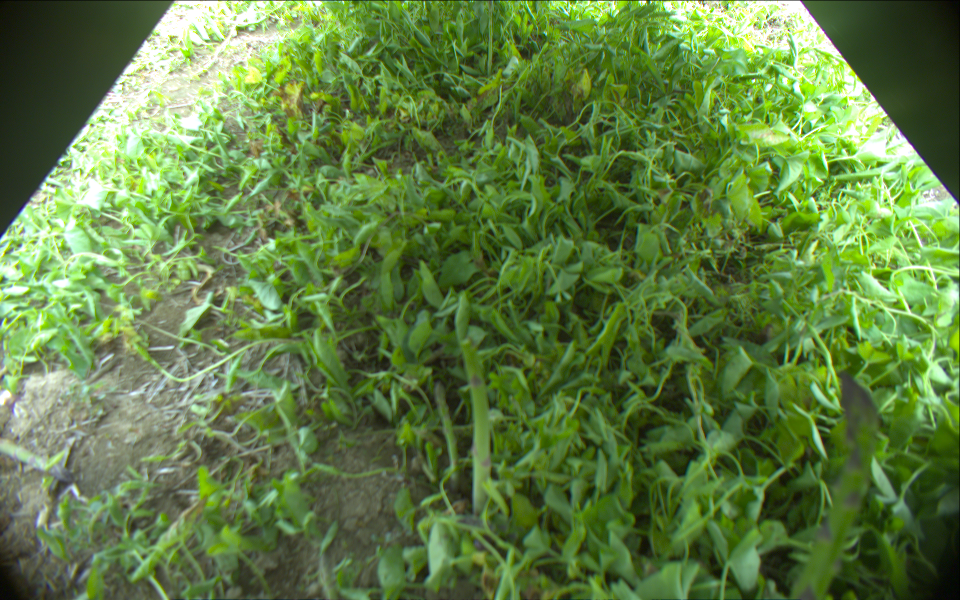aspa: (458, 339, 494, 511), (434, 381, 464, 485)
